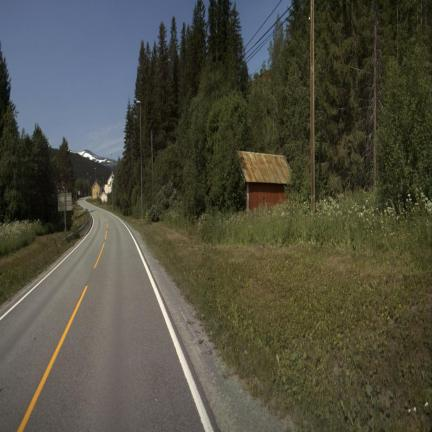Road: (0, 203, 213, 430)
